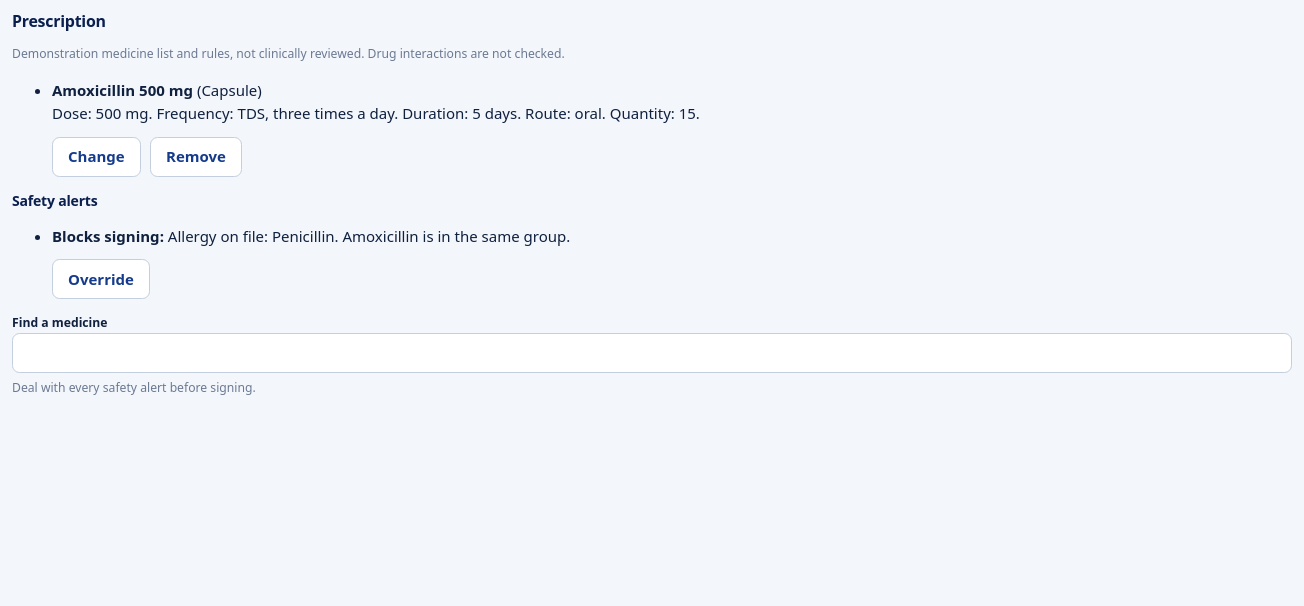
Scenario: SafetyAlerts in the prescription panel › overrides only with a long enough reason and a code
This screenshot has width=1304, height=606.
Click the button "Override" at (101, 279), box [52,259,150,299]
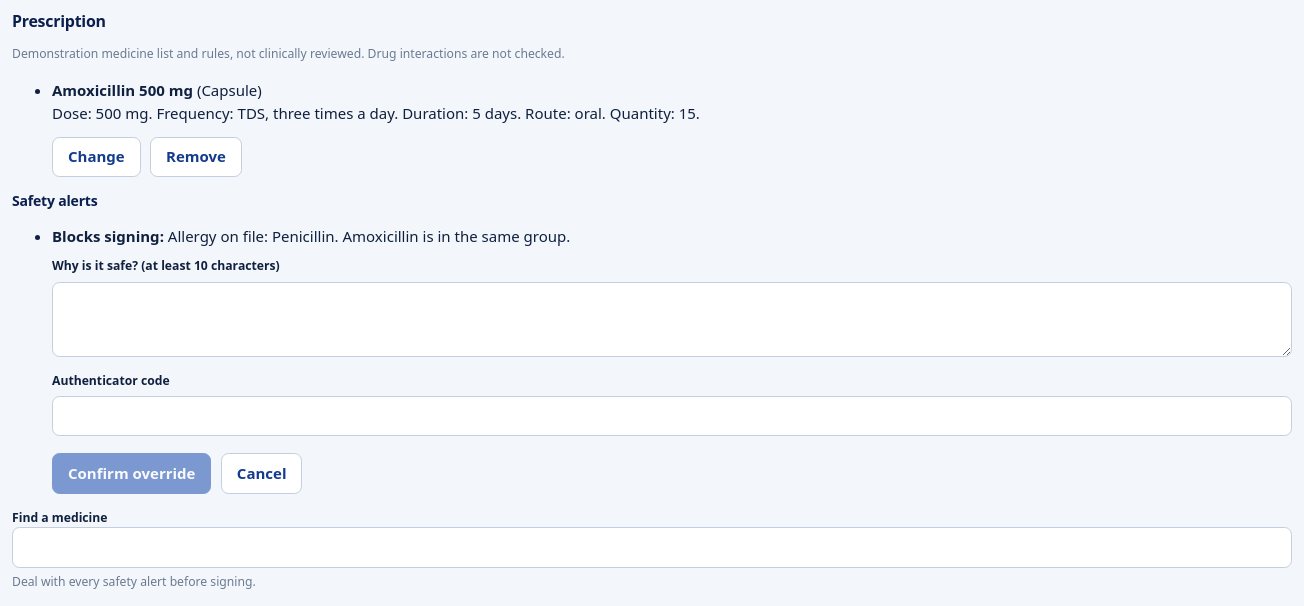
Type "short" into the text box labelled "Why is it safe? (at least 10 characters)" at (672, 319), box [52,282,1292,357]
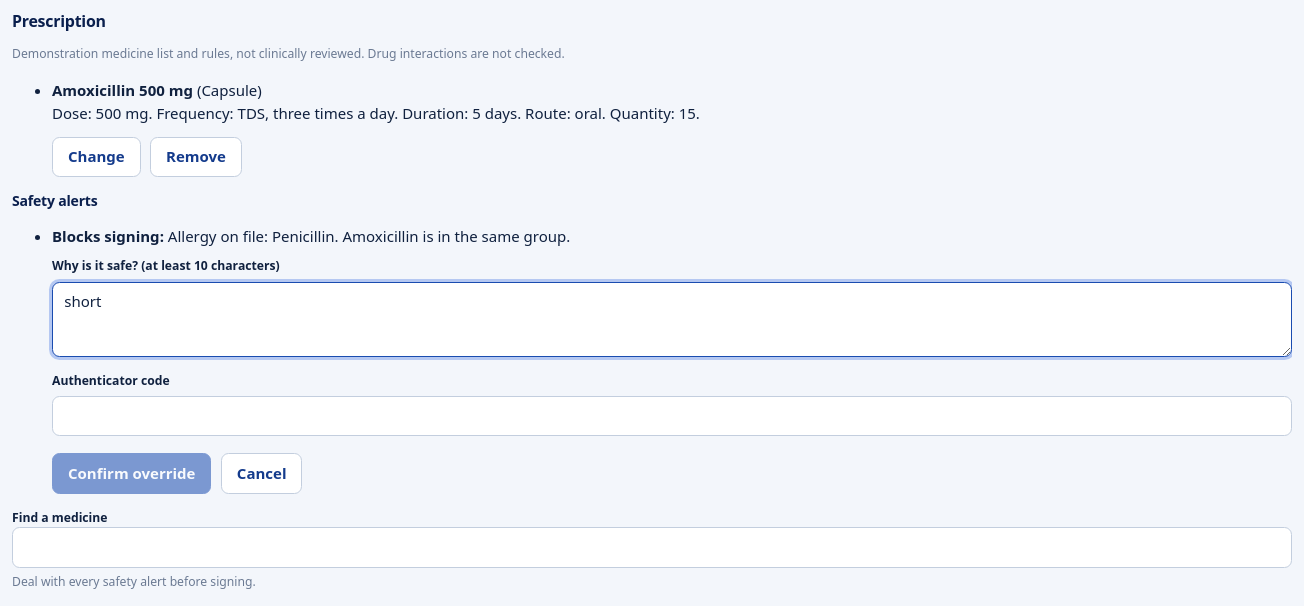
Type "123456" into the field labelled "Authenticator code" at (672, 416), box [52,396,1292,436]
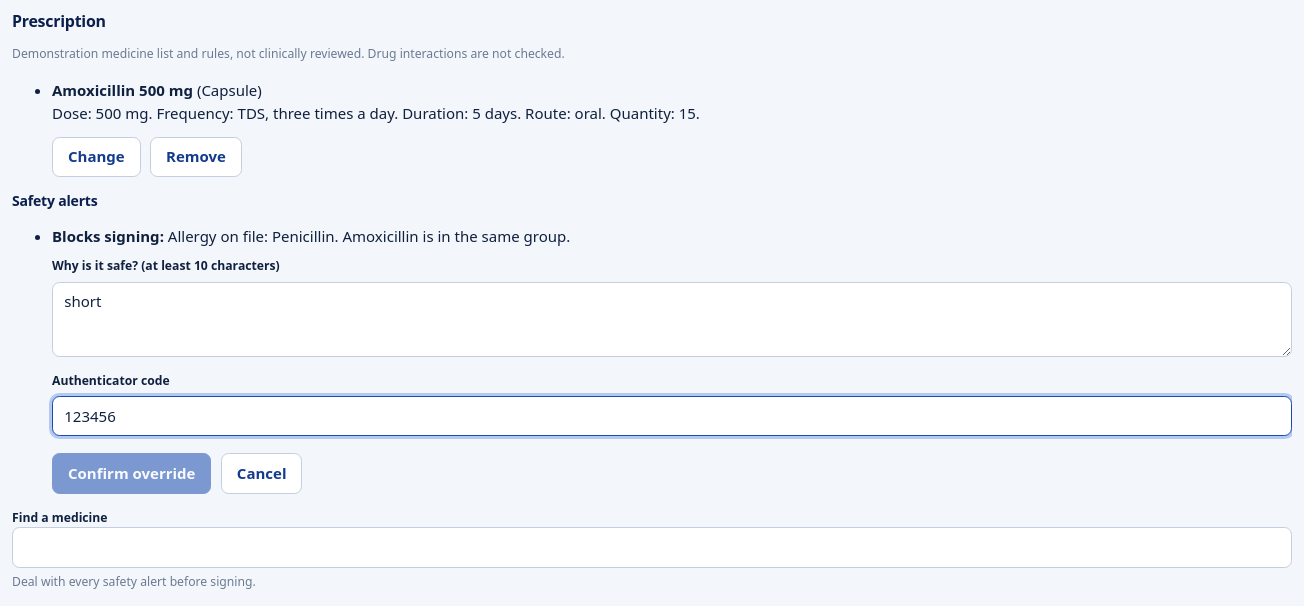
Expected: the button "Confirm override" is disabled, [52,453,212,494]
Replace the text in the text box labelled "Why is it safe? (at least 10 characters)" with "Tolerated it before" at (672, 319), box [52,282,1292,357]
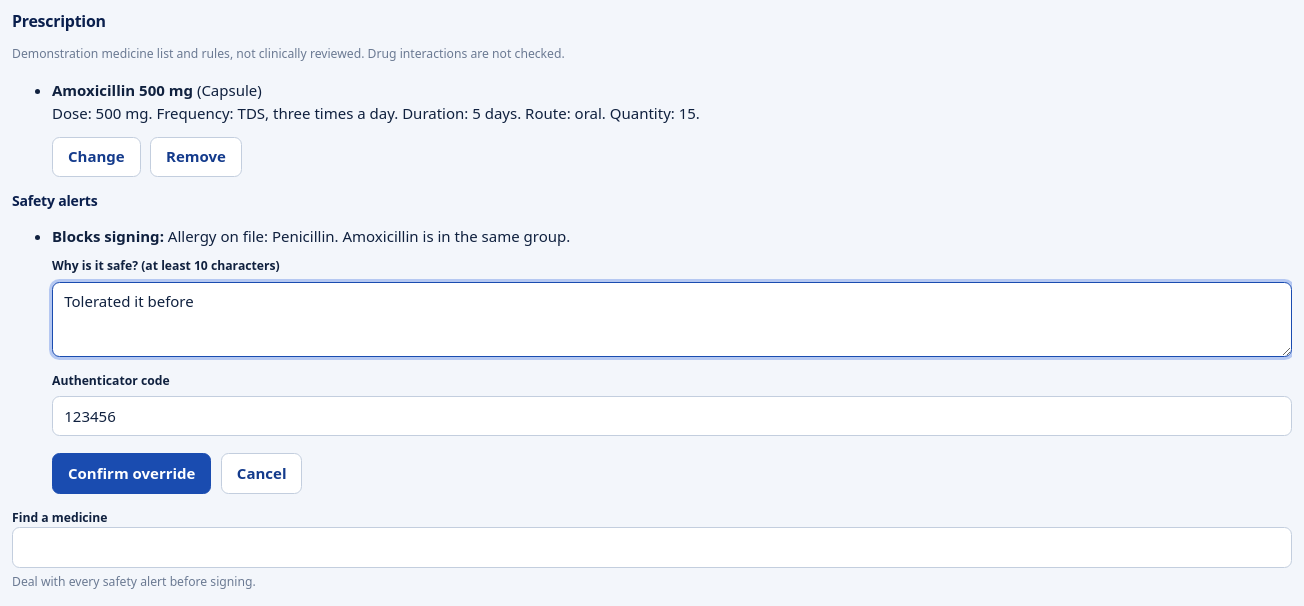
Click the button "Confirm override" at (132, 473), box [52,453,212,494]
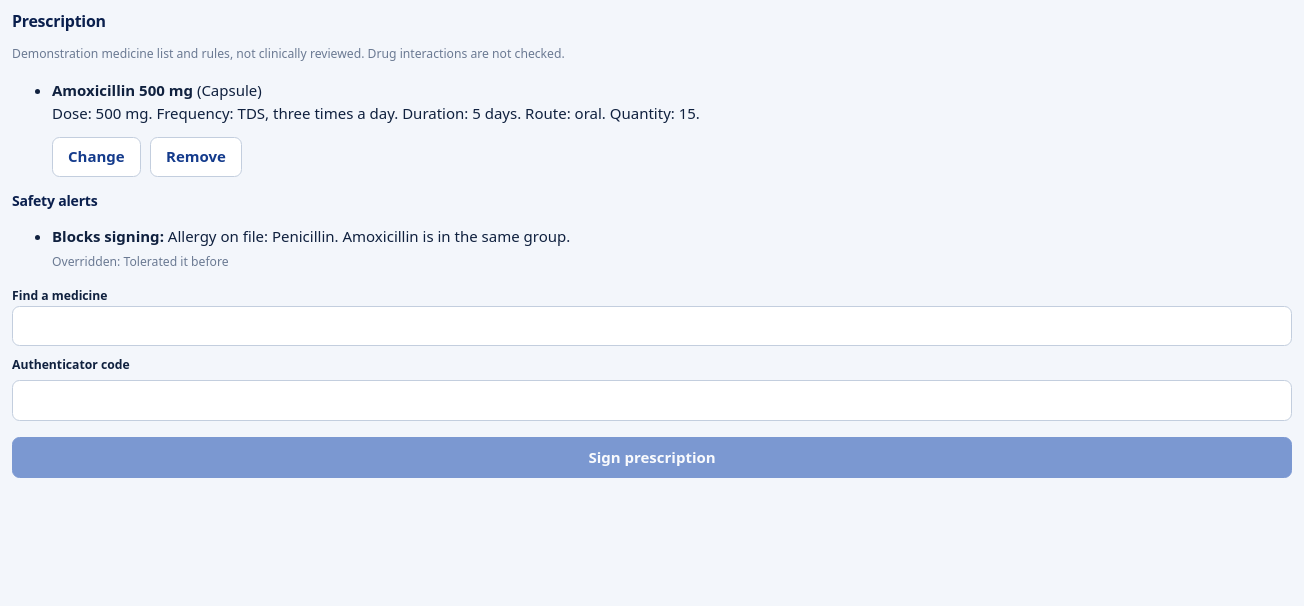
Expected: the text "Overridden: Tolerated it before" is shown, [52,253,229,270]
